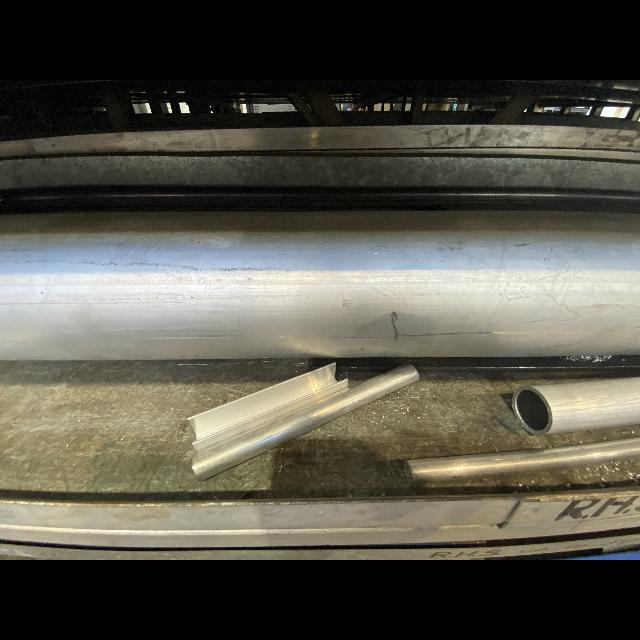Aluminium: (0, 214, 639, 361), (190, 363, 419, 482), (188, 362, 348, 452), (405, 437, 640, 484), (512, 377, 640, 435)
Ferrous Metal: (308, 356, 639, 372)
